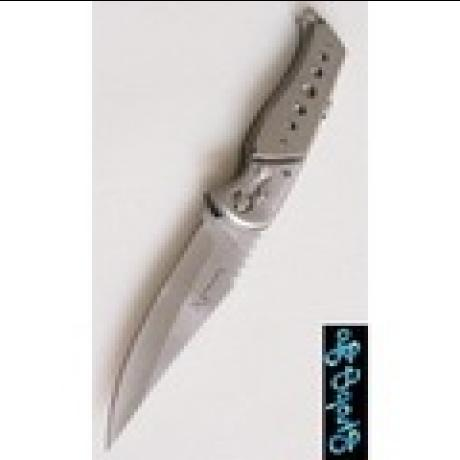weapon: (105, 6, 353, 458)
